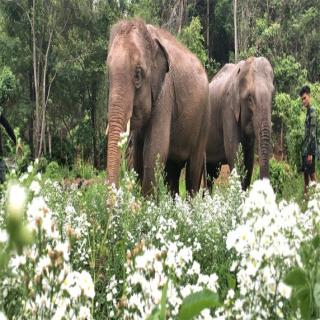Elephant: (101, 16, 212, 203), (202, 54, 280, 192)
